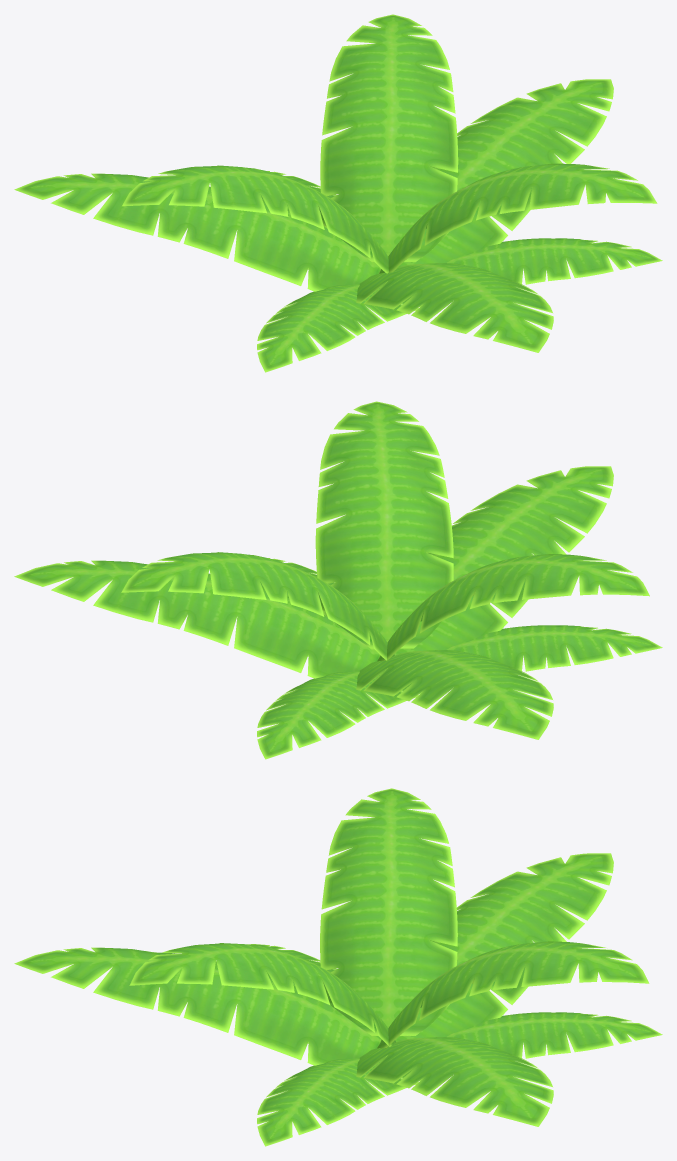
File: bush3.glb
The picture shows the model from 3 angles, top to bottom: view 1: azimuth 30°, elevation 25°; view 2: azimuth 150°, elevation 25°; view 3: azimuth 270°, elevation 25°; orthographic projection.
Parts seen in each view (by area): view 1: plant_1; view 2: plant_1; view 3: plant_1.
Part boxes in pixels (x1=…): plant_1: x1=14, y1=14, x2=662, y2=372; plant_1: x1=14, y1=401, x2=662, y2=759; plant_1: x1=14, y1=788, x2=662, y2=1146.
Bounding box in the file's own units: 1375 × 367 × 1373.
Materials: 1 (1 with a texture image).
